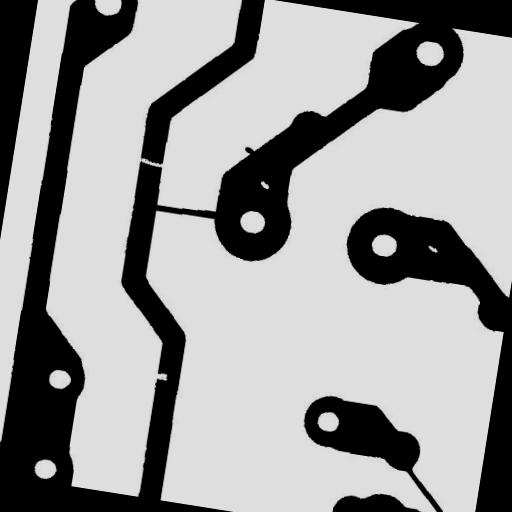mousebite: (142, 362, 176, 388)
open: (125, 146, 172, 176)
pin-hole: (418, 236, 447, 261), (251, 172, 278, 198)
short: (146, 192, 230, 228)
spur: (235, 138, 264, 164)
